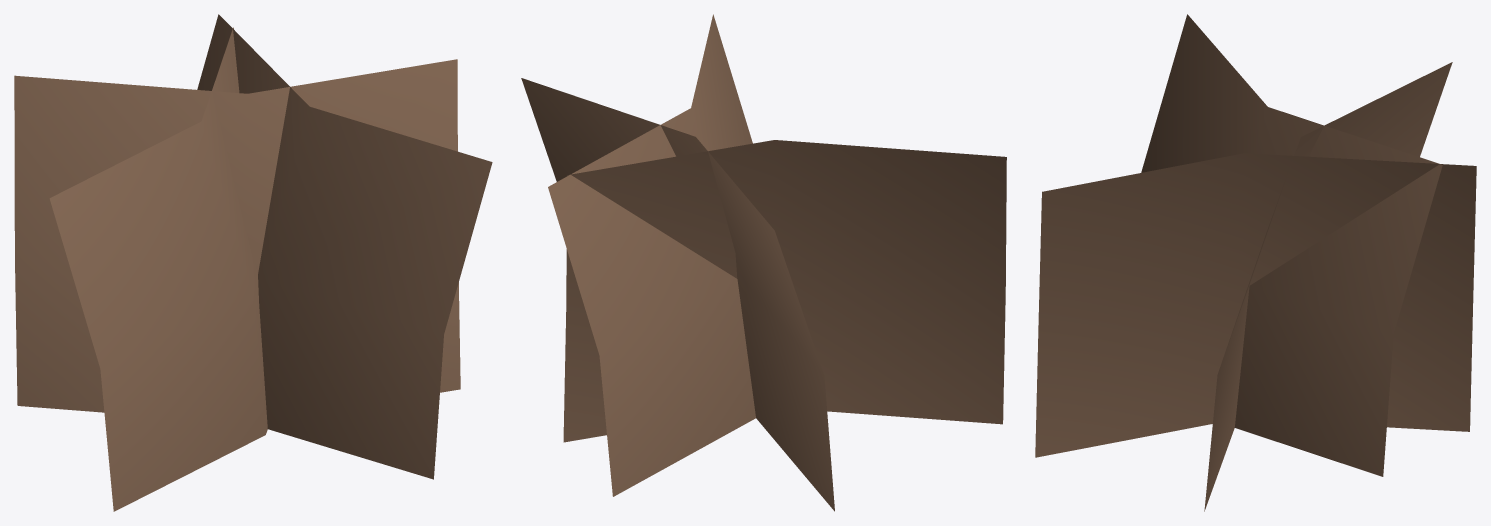
File: GrassPlanes_b_TwoS_06.fbx
3 renders of one model, left to right at view 1: azimuth 30°, elevation 25°; view 2: azimuth 150°, elevation 25°; view 3: azimuth 270°, elevation 25°, orthographic.
Visible parts, largest first — view 1: GrassPlanes_b_TwoS_06; view 2: GrassPlanes_b_TwoS_06; view 3: GrassPlanes_b_TwoS_06.
Part boxes in pixels (x1,y1,x2,y2): GrassPlanes_b_TwoS_06: [14, 14, 492, 511]; GrassPlanes_b_TwoS_06: [521, 14, 1006, 511]; GrassPlanes_b_TwoS_06: [1035, 14, 1476, 511].
Bounding box in the file's own units: 86.15 × 55 × 74.4.
